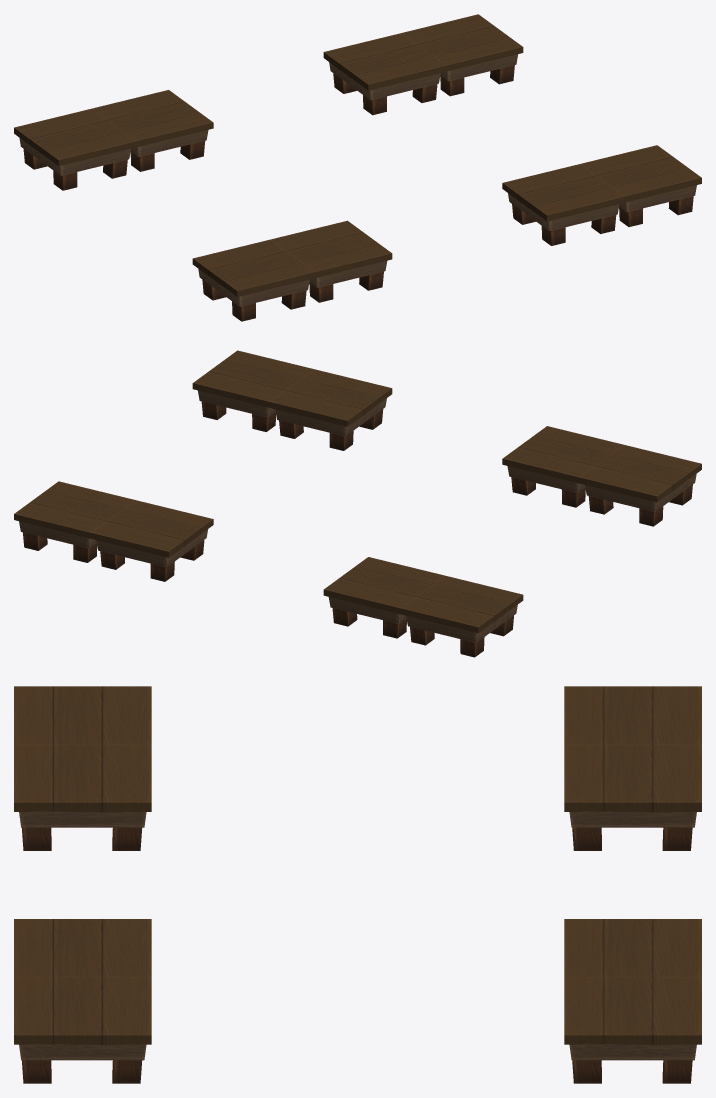
The model's file is MovingSectionB.fbx.
3 renders of one model, top to bottom at view 1: azimuth 30°, elevation 25°; view 2: azimuth 150°, elevation 25°; view 3: azimuth 270°, elevation 25°, orthographic. The views are drawn at different scales.
Visible parts, largest first — view 1: Worktop (×8); view 2: Worktop (×8); view 3: Worktop (×8).
Boxes of the visible parts, x1=… form: Worktop (×8): x1=14, y1=14, x2=701, y2=321; Worktop (×8): x1=14, y1=350, x2=701, y2=657; Worktop (×8): x1=14, y1=686, x2=701, y2=1083.
Bounding box in the file's own units: 7.2 × 0.5124 × 6.
1 material, 1 textured.
